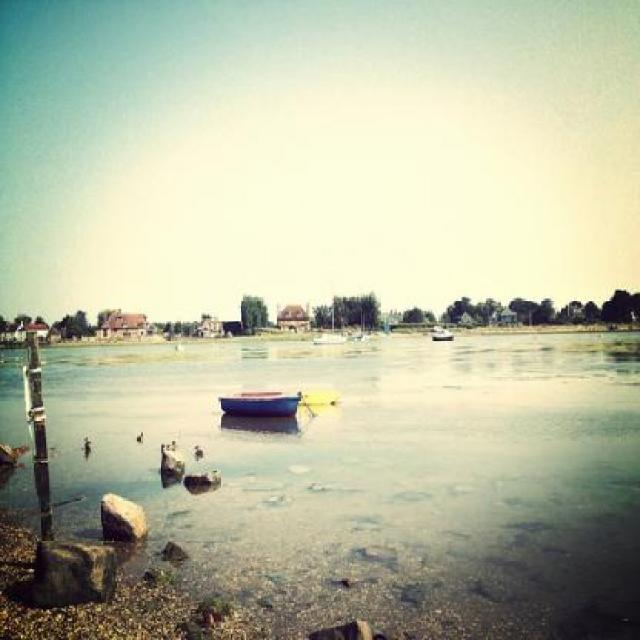ship: (309, 287, 349, 348), (217, 389, 301, 417), (299, 388, 339, 407), (430, 323, 455, 342)
